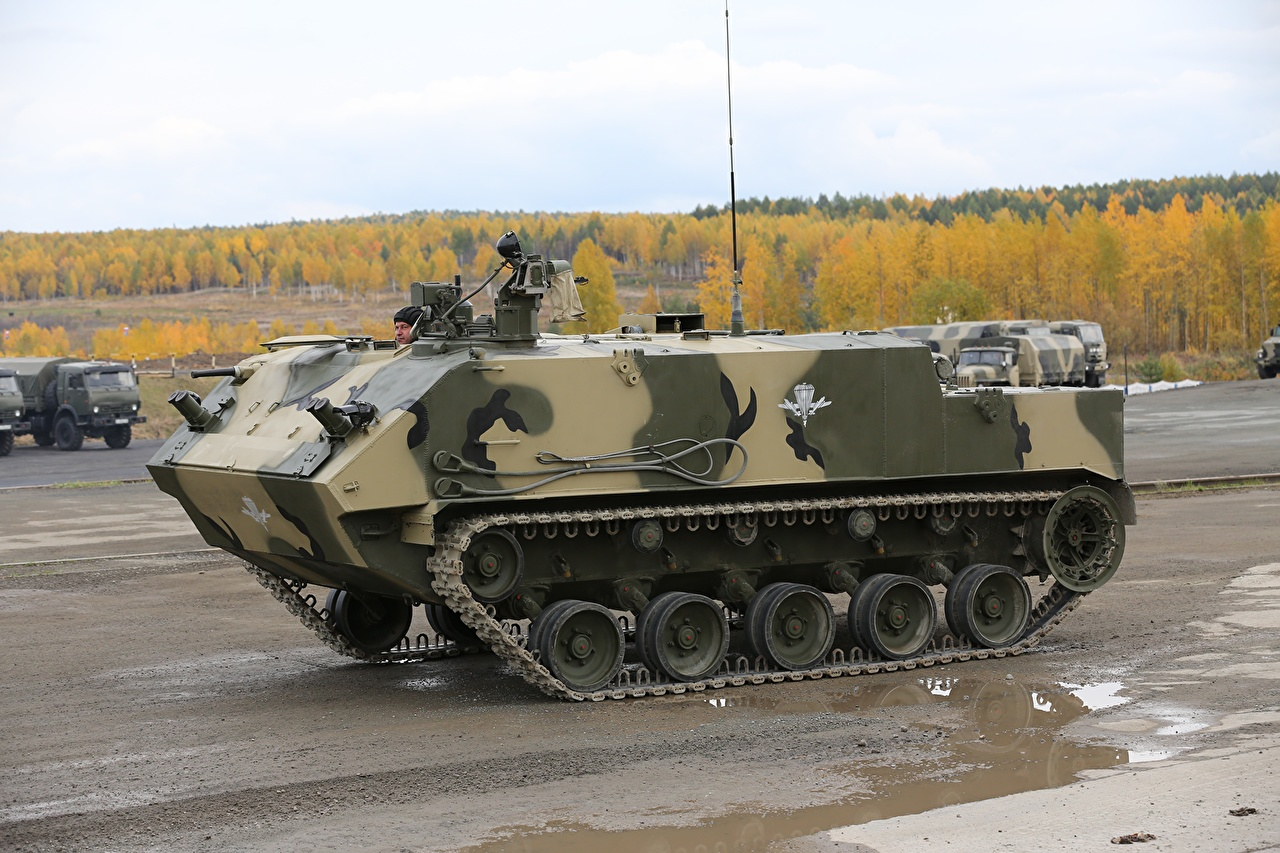btr: (155, 274, 1136, 676)
pilot: (378, 296, 435, 363)
warauto: (1, 349, 143, 460), (881, 319, 1113, 385), (925, 333, 1088, 404), (1, 369, 30, 472), (1248, 321, 1280, 379)
